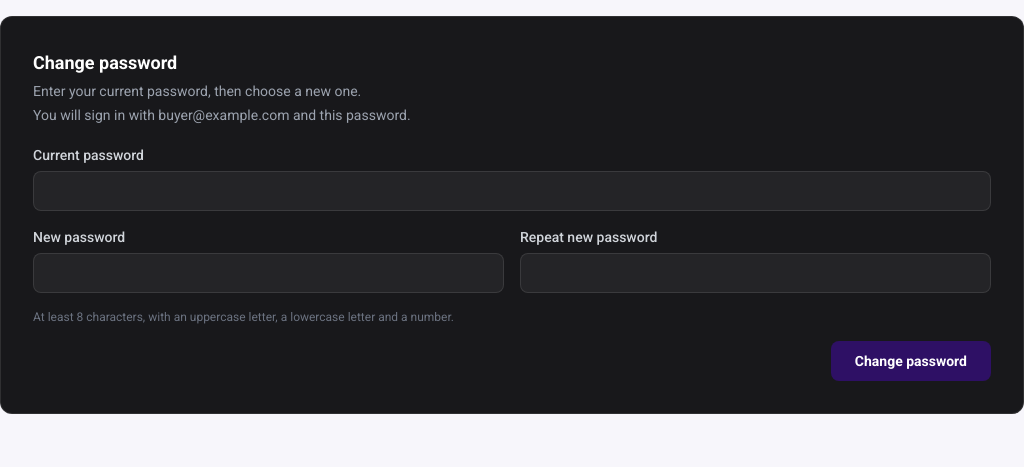
Test case: ProfilePasswordCard › asks for the current password once one is set, and checks the new one locally
This screenshot has width=1024, height=467.
Type "Old12345" into the password field with id "current-password" at (512, 191), box [33,171,991,211]
Type "weak" into the password field with id "new-password" at (268, 273), box [33,253,504,293]
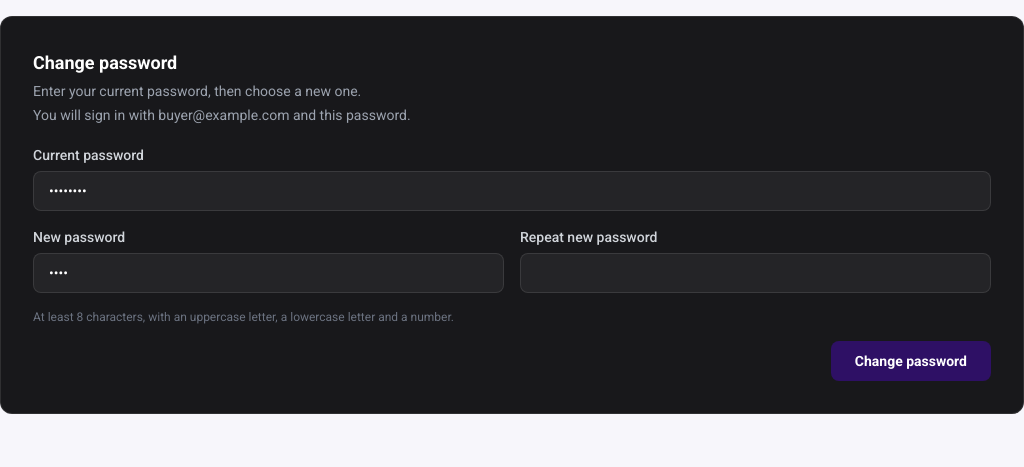
Type "weak" into the password field with id "confirm-password" at (756, 273), box [520,253,991,293]
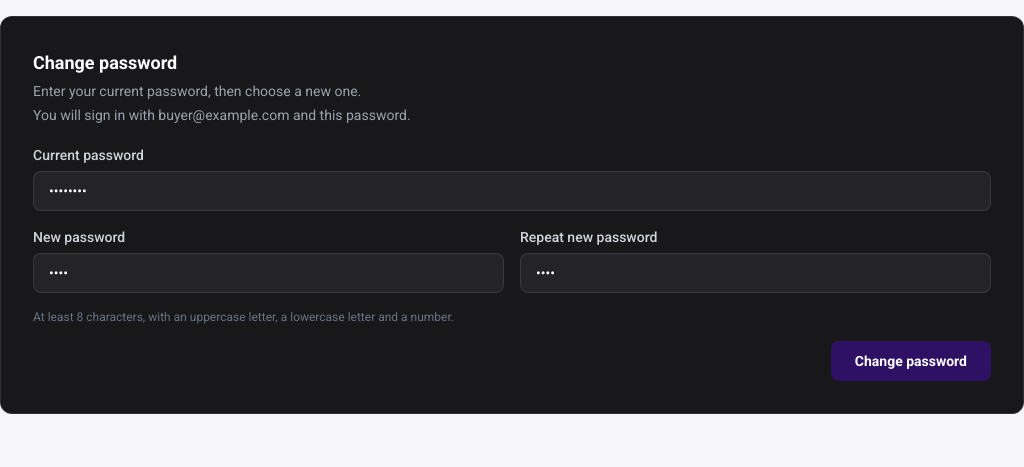
Submit the form, box [33,145,991,381]
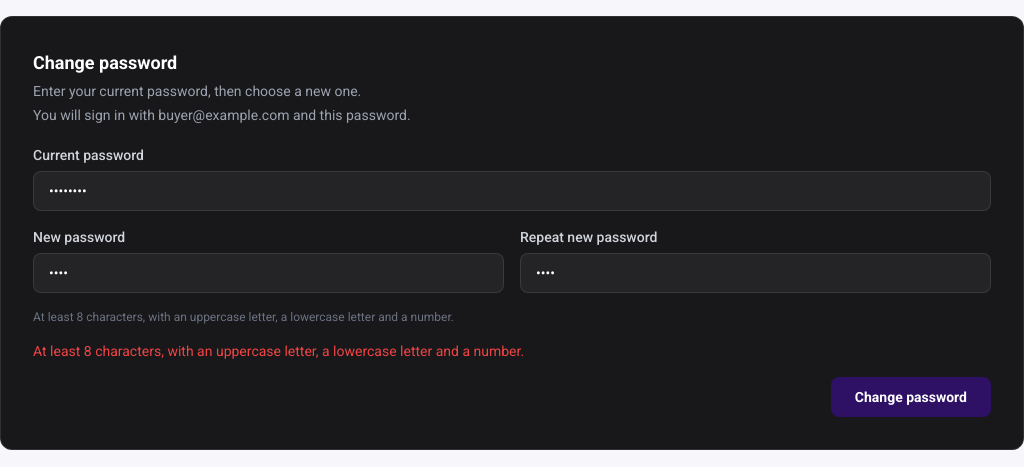
Result: the message with test id "profile-password-error" shows "At least 8 characters" at [33,343,524,359]
Type "Secret123" into the password field with id "new-password" at (268, 273), box [33,253,504,293]
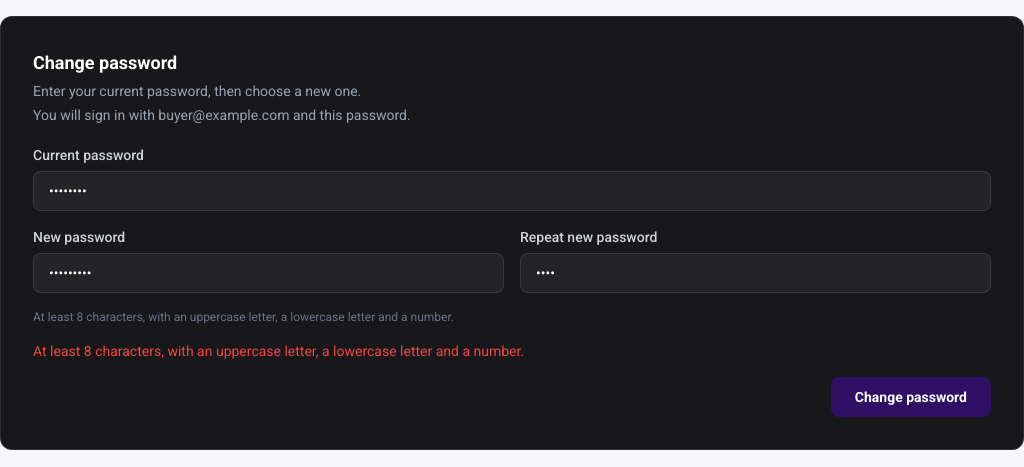
Type "Secret124" into the password field with id "confirm-password" at (756, 273), box [520,253,991,293]
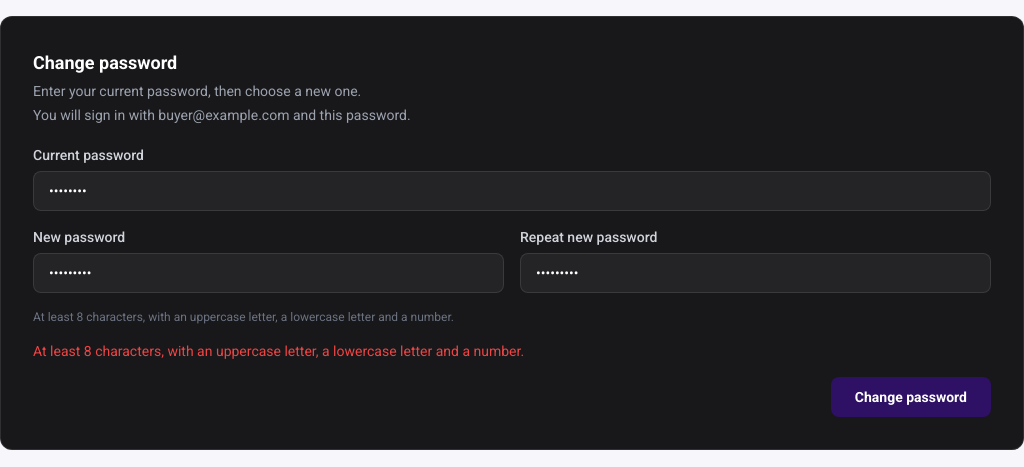
Submit the form, box [33,145,991,417]
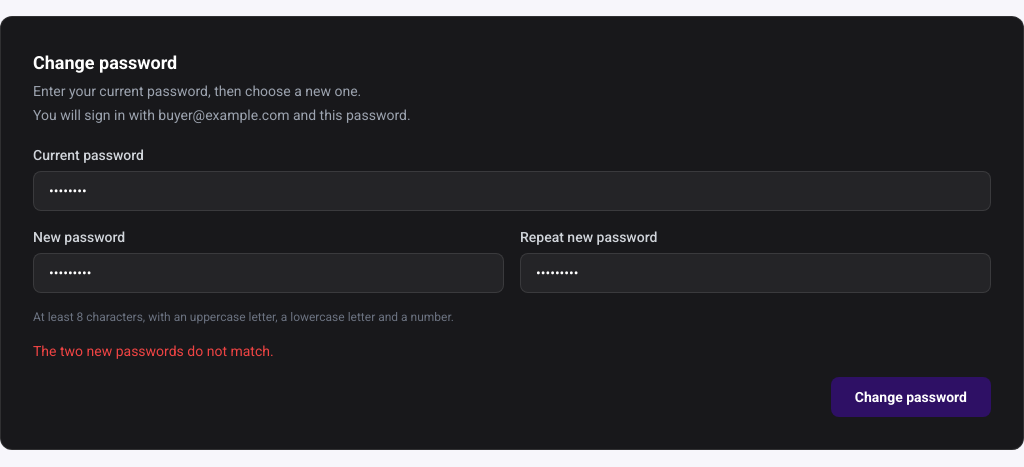
Result: the message with test id "profile-password-error" shows "do not match" at [33,343,274,359]
